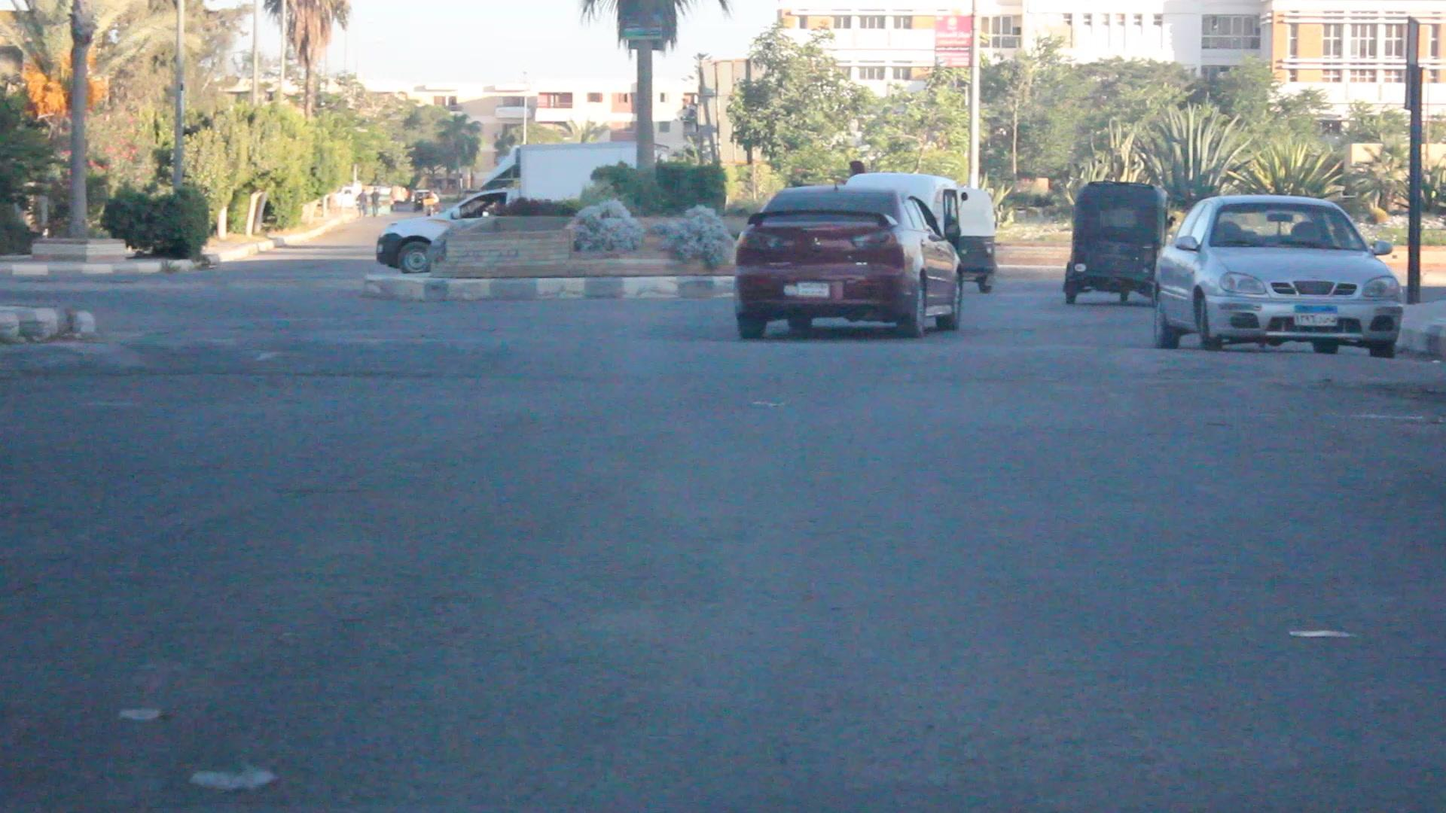Bump: (9, 329, 1431, 386)
